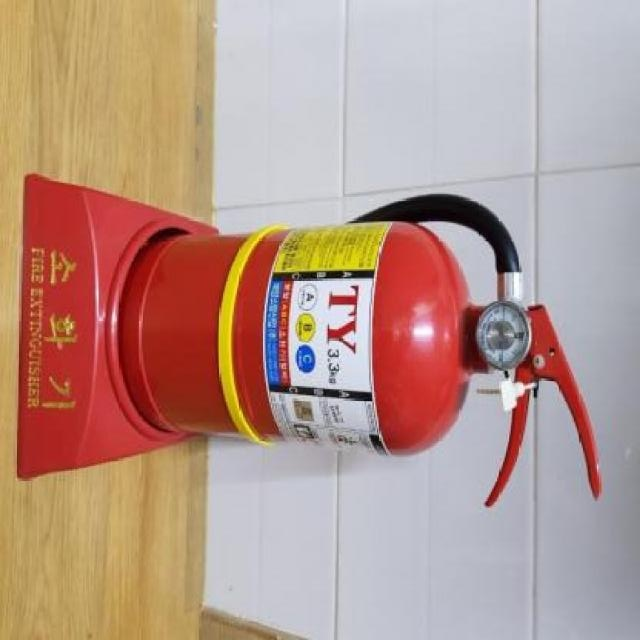fire extinguisher: (120, 194, 603, 508)
